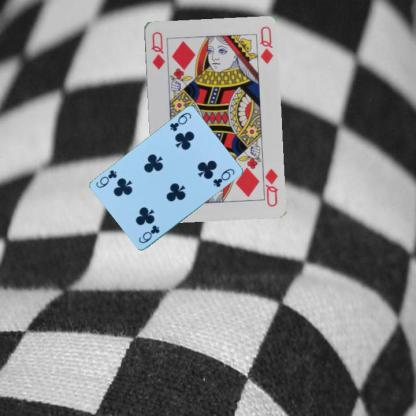6c: (167, 110, 192, 133), (136, 222, 160, 245)
Qd: (259, 164, 279, 208), (148, 29, 166, 70)
